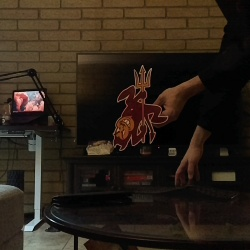sparky: (111, 63, 168, 152)
